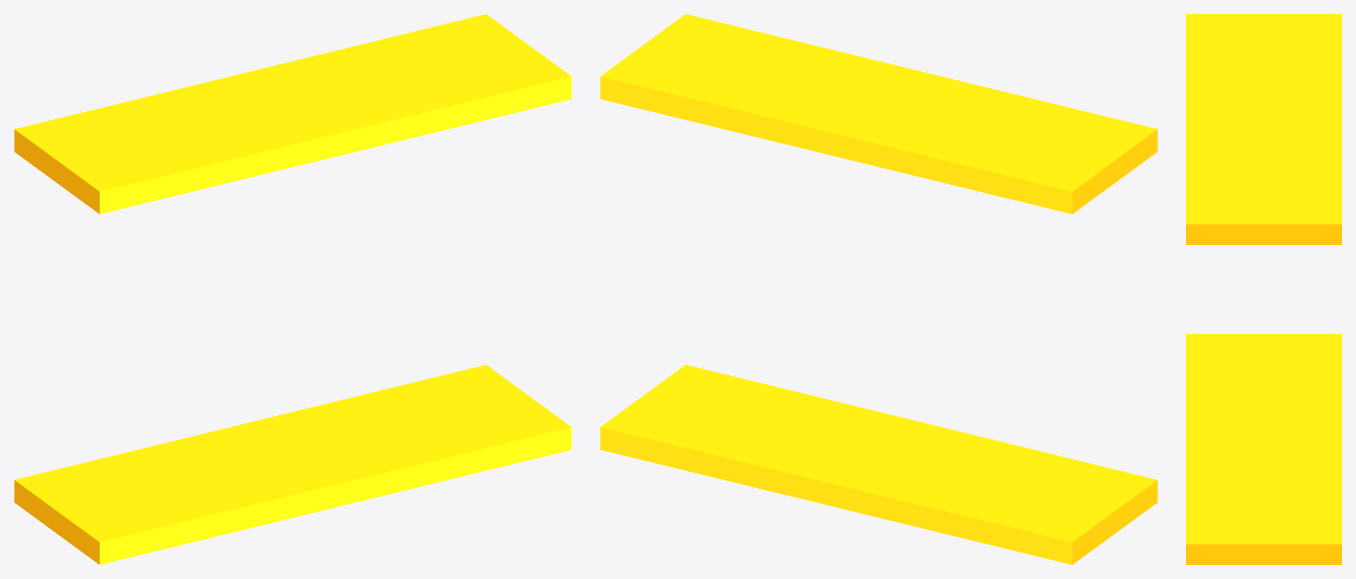
3 views of the same model, side by side, from view 1: azimuth 30°, elevation 25°; view 2: azimuth 150°, elevation 25°; view 3: azimuth 270°, elevation 25° (orthographic). The views are drawn at different scales.
Parts seen in each view (by area): view 1: =_AlphaProta_Yellow; view 2: =_AlphaProta_Yellow; view 3: =_AlphaProta_Yellow.
Part boxes in pixels (x1,y1,x2,y2): =_AlphaProta_Yellow: [14, 14, 571, 564]; =_AlphaProta_Yellow: [600, 14, 1157, 564]; =_AlphaProta_Yellow: [1186, 14, 1341, 564].
Size of what is drawn, in the model's own units: 0.1436 by 0.1086 by 0.045.
2 materials, 2 textured.
